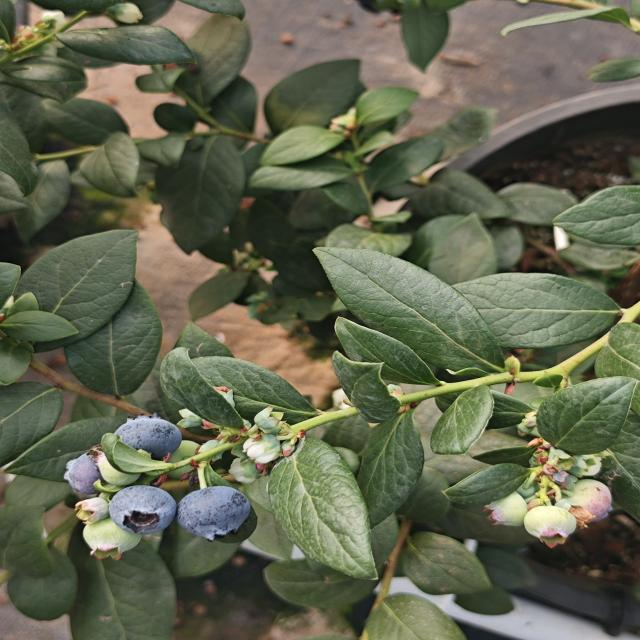ripe: (173, 484, 259, 552), (100, 406, 194, 467), (108, 485, 178, 543), (54, 446, 124, 496)
